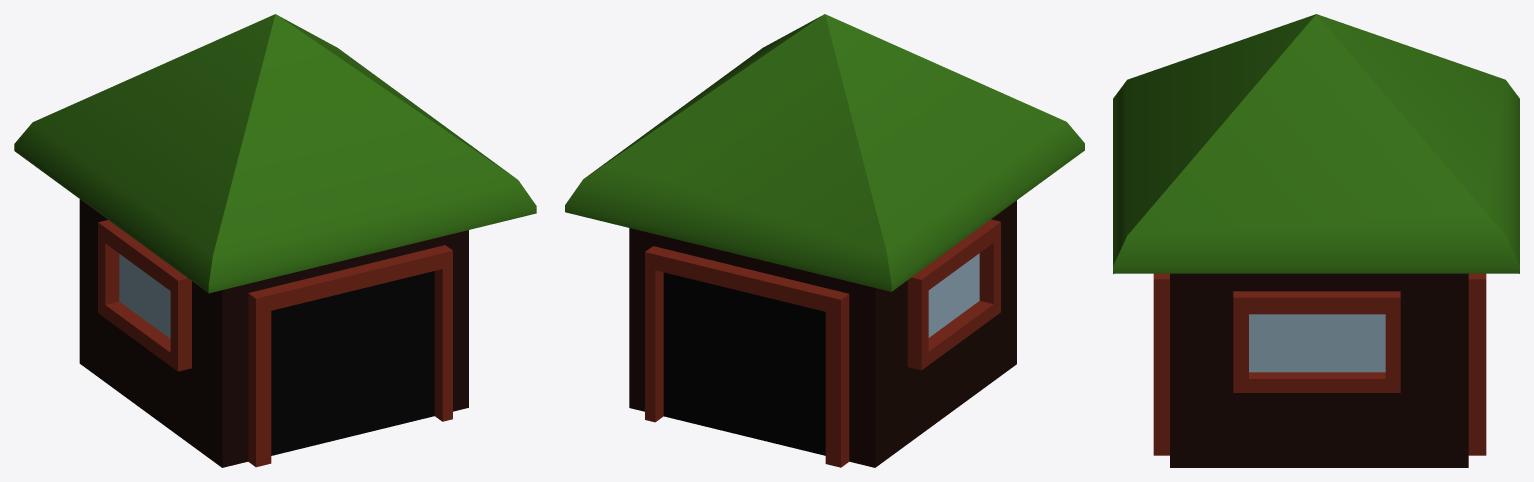
File: UnitBuilding2.FBX
The picture shows the model from 3 angles, left to right: view 1: azimuth 30°, elevation 25°; view 2: azimuth 150°, elevation 25°; view 3: azimuth 270°, elevation 25°; orthographic projection. The views are drawn at different scales.
Visible parts, largest first — view 1: Pyramid001; view 2: Pyramid001; view 3: Pyramid001.
Boxes of the visible parts, x1,y1,x2,y2 form: Pyramid001: (14,14,536,467); Pyramid001: (565,14,1084,467); Pyramid001: (1113,14,1519,467).
Size of the model in its own units: 262 by 268 by 284.
